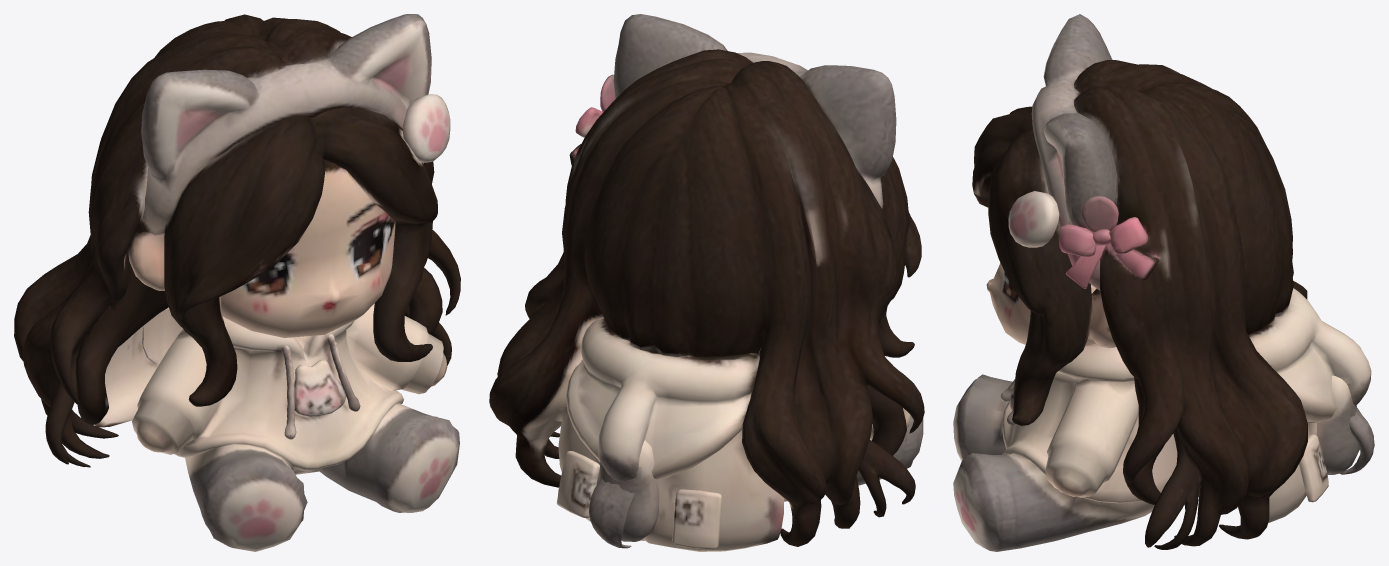
File: plush-doll-cat-ear.glb
3 renders of one model, left to right at view 1: azimuth 30°, elevation 25°; view 2: azimuth 150°, elevation 25°; view 3: azimuth 270°, elevation 25°, orthographic. The views are drawn at different scales.
Visible parts, largest first — view 1: Plush_cat-ear; view 2: Plush_cat-ear; view 3: Plush_cat-ear.
Part boxes in pixels (left/top/right/bottom): Plush_cat-ear: left=14, top=14, right=460, bottom=551; Plush_cat-ear: left=489, top=14, right=924, bottom=551; Plush_cat-ear: left=953, top=14, right=1374, bottom=551.
Size of the model in its own units: 0.9275 by 1 by 0.8765.
Materials: 1 (1 with a texture image).
